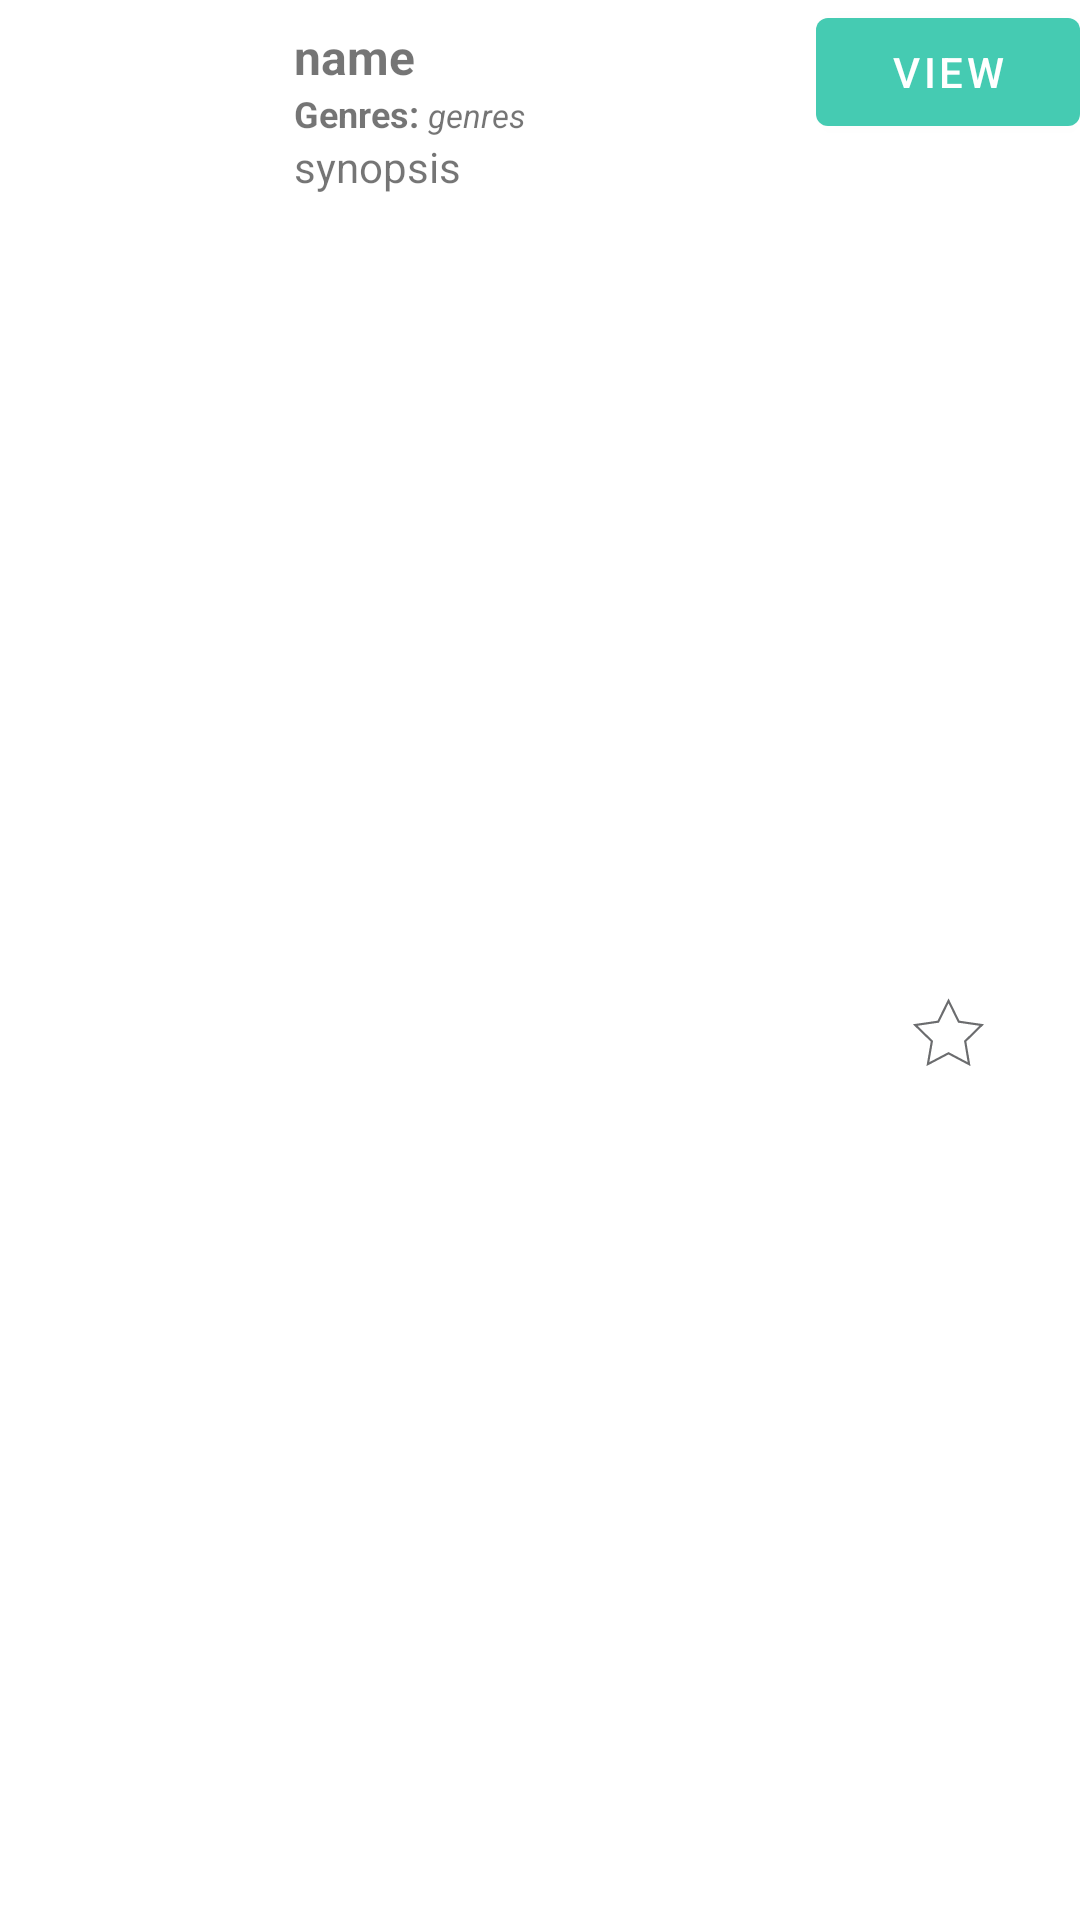

Screen size 1080 × 1920. Icon name, then its box in pixels as region(x1, y1, x2, y2):
star off: region(913, 998, 984, 1066)
